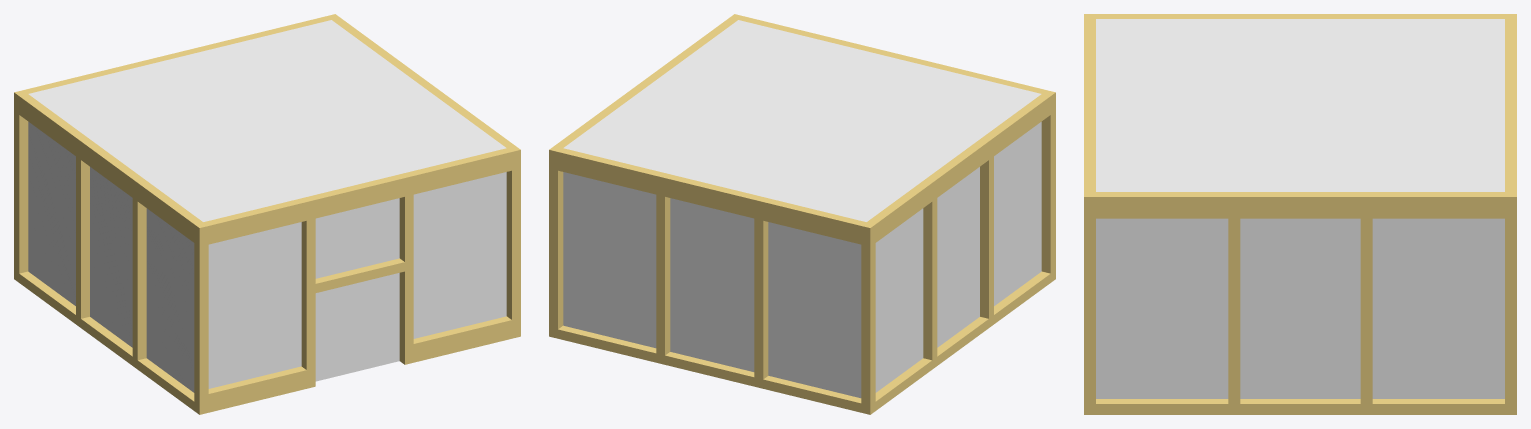
The model's file is building_bottom.glb.
3 views of the same model, side by side, from view 1: azimuth 30°, elevation 25°; view 2: azimuth 150°, elevation 25°; view 3: azimuth 270°, elevation 25° (orthographic). The views are drawn at different scales.
Parts seen in each view (by area): view 1: building; view 2: building; view 3: building.
Part boxes in pixels (bbox=[...]): building: bbox=[14, 14, 520, 414]; building: bbox=[549, 14, 1055, 414]; building: bbox=[1084, 14, 1516, 414].
Size of the model in its own units: 3.6 by 2 by 3.6.
Materials: 2 (1 with a texture image).
